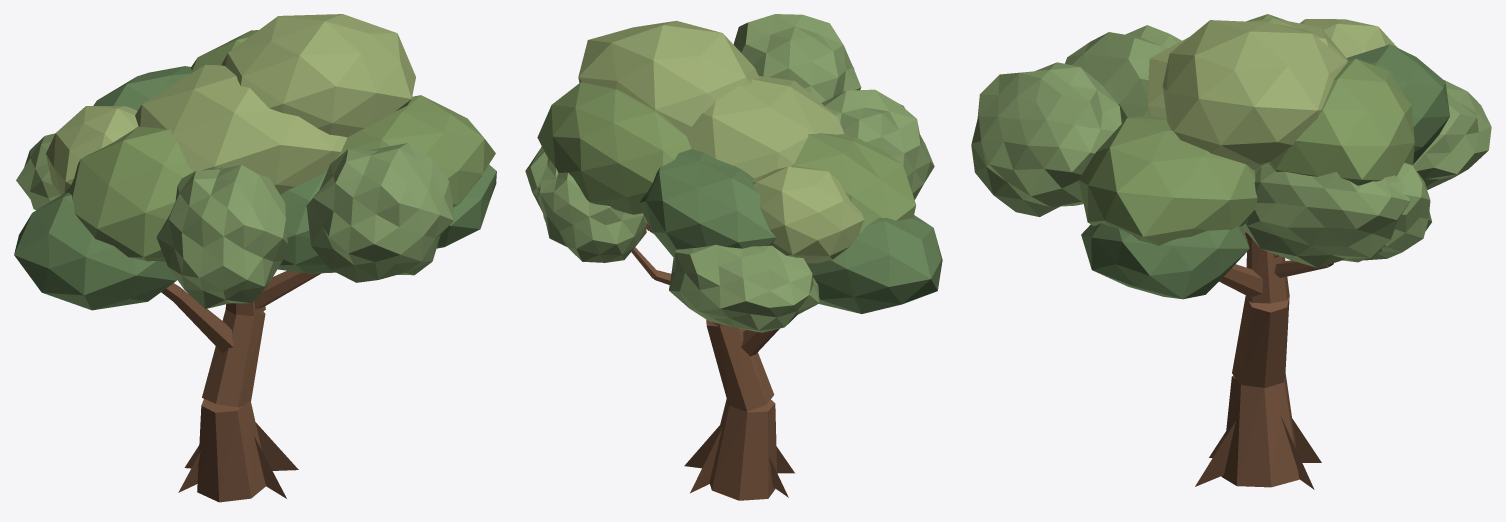
File: oak_1.glb
The picture shows the model from 3 angles, left to right: view 1: azimuth 30°, elevation 25°; view 2: azimuth 150°, elevation 25°; view 3: azimuth 270°, elevation 25°; orthographic projection. The views are drawn at different scales.
Parts seen in each view (by area): view 1: foliage-0, foliage-2, foliage-1, surface; view 2: foliage-0, foliage-1, foliage-2, surface; view 3: foliage-1, foliage-0, foliage-2, surface.
Part boxes in pixels (left/top/right/bottom): foliage-0: left=14, top=14, right=453, bottom=310; foliage-2: left=135, top=64, right=496, bottom=309; foliage-1: left=16, top=30, right=495, bottom=261; surface: left=161, top=270, right=321, bottom=502; foliage-0: left=578, top=14, right=942, bottom=313; foliage-1: left=525, top=82, right=916, bottom=332; foliage-2: left=537, top=76, right=934, bottom=262; surface: left=631, top=219, right=794, bottom=500; foliage-1: left=1078, top=14, right=1491, bottom=267; foliage-0: left=971, top=19, right=1449, bottom=216; foliage-2: left=1065, top=18, right=1431, bottom=299; surface: left=1195, top=230, right=1333, bottom=489.
Bounding box in the file's own units: 6.09 × 6.25 × 5.96.
